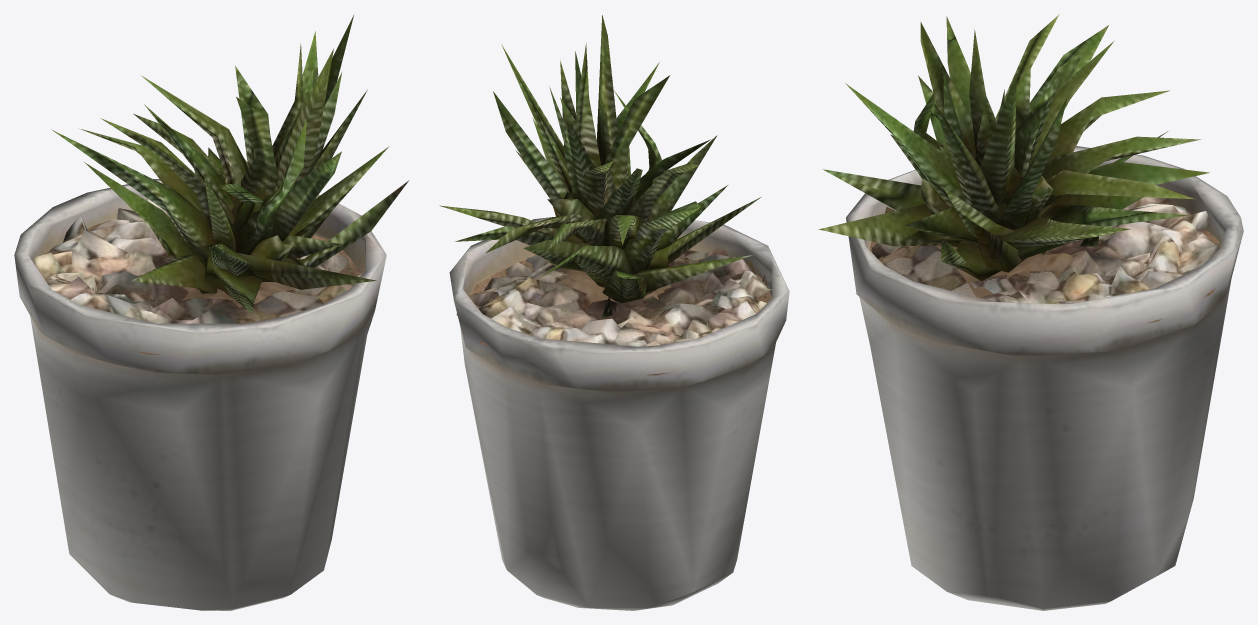
The model's file is plant_succulent.glb.
The picture shows the model from 3 angles, left to right: view 1: azimuth 30°, elevation 25°; view 2: azimuth 150°, elevation 25°; view 3: azimuth 270°, elevation 25°; orthographic projection. The views are drawn at different scales.
Parts seen in each view (by area): view 1: potted_plant_04_ground; view 2: potted_plant_04_ground; view 3: potted_plant_04_ground.
Boxes of the visible parts, <box> form: potted_plant_04_ground: <box>14,15,408,610</box>; potted_plant_04_ground: <box>439,15,789,610</box>; potted_plant_04_ground: <box>818,14,1243,610</box>.
Bounding box in the file's own units: 0.1664 × 0.2671 × 0.1783.
Materials: 1 (1 with a texture image).
